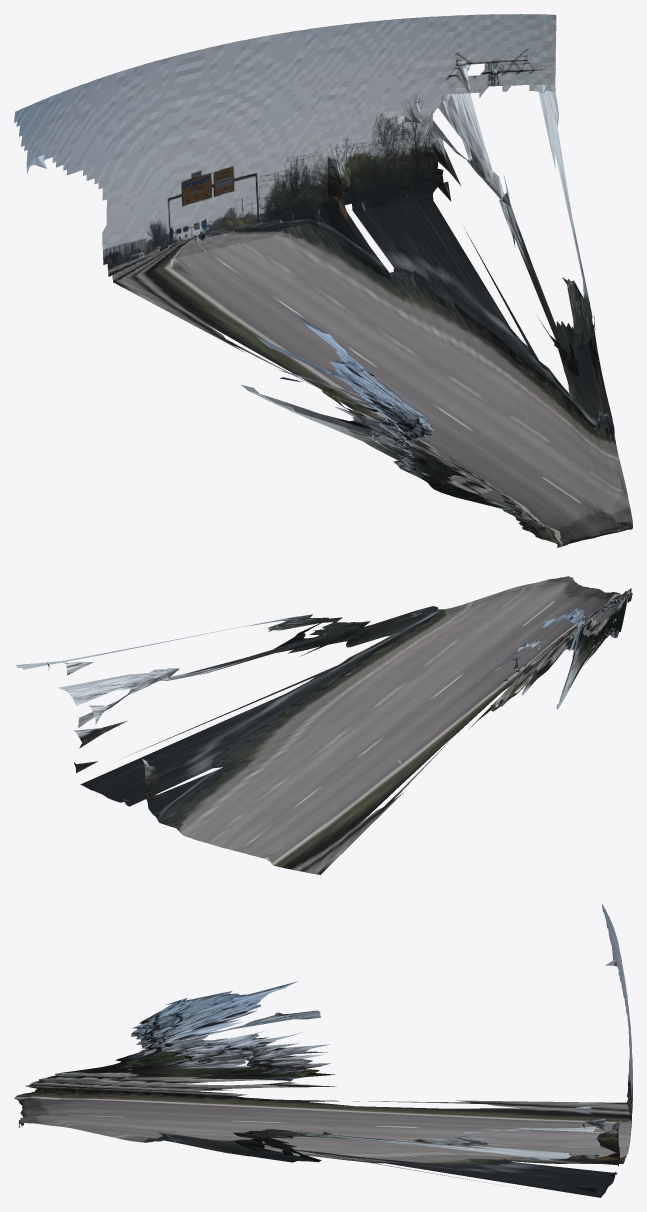
The picture shows the model from 3 angles, top to bottom: view 1: azimuth 30°, elevation 25°; view 2: azimuth 150°, elevation 25°; view 3: azimuth 270°, elevation 25°; orthographic projection. The views are drawn at different scales.
Visible parts, largest first — view 1: defaultobject; view 2: defaultobject; view 3: defaultobject.
Part boxes in pixels (bbox=[...]): defaultobject: bbox=[14, 14, 632, 547]; defaultobject: bbox=[15, 576, 632, 874]; defaultobject: bbox=[14, 904, 632, 1197].
Bounding box in the file's own units: 32.31 × 12.85 × 44.66.
Materials: 1 (1 with a texture image).
